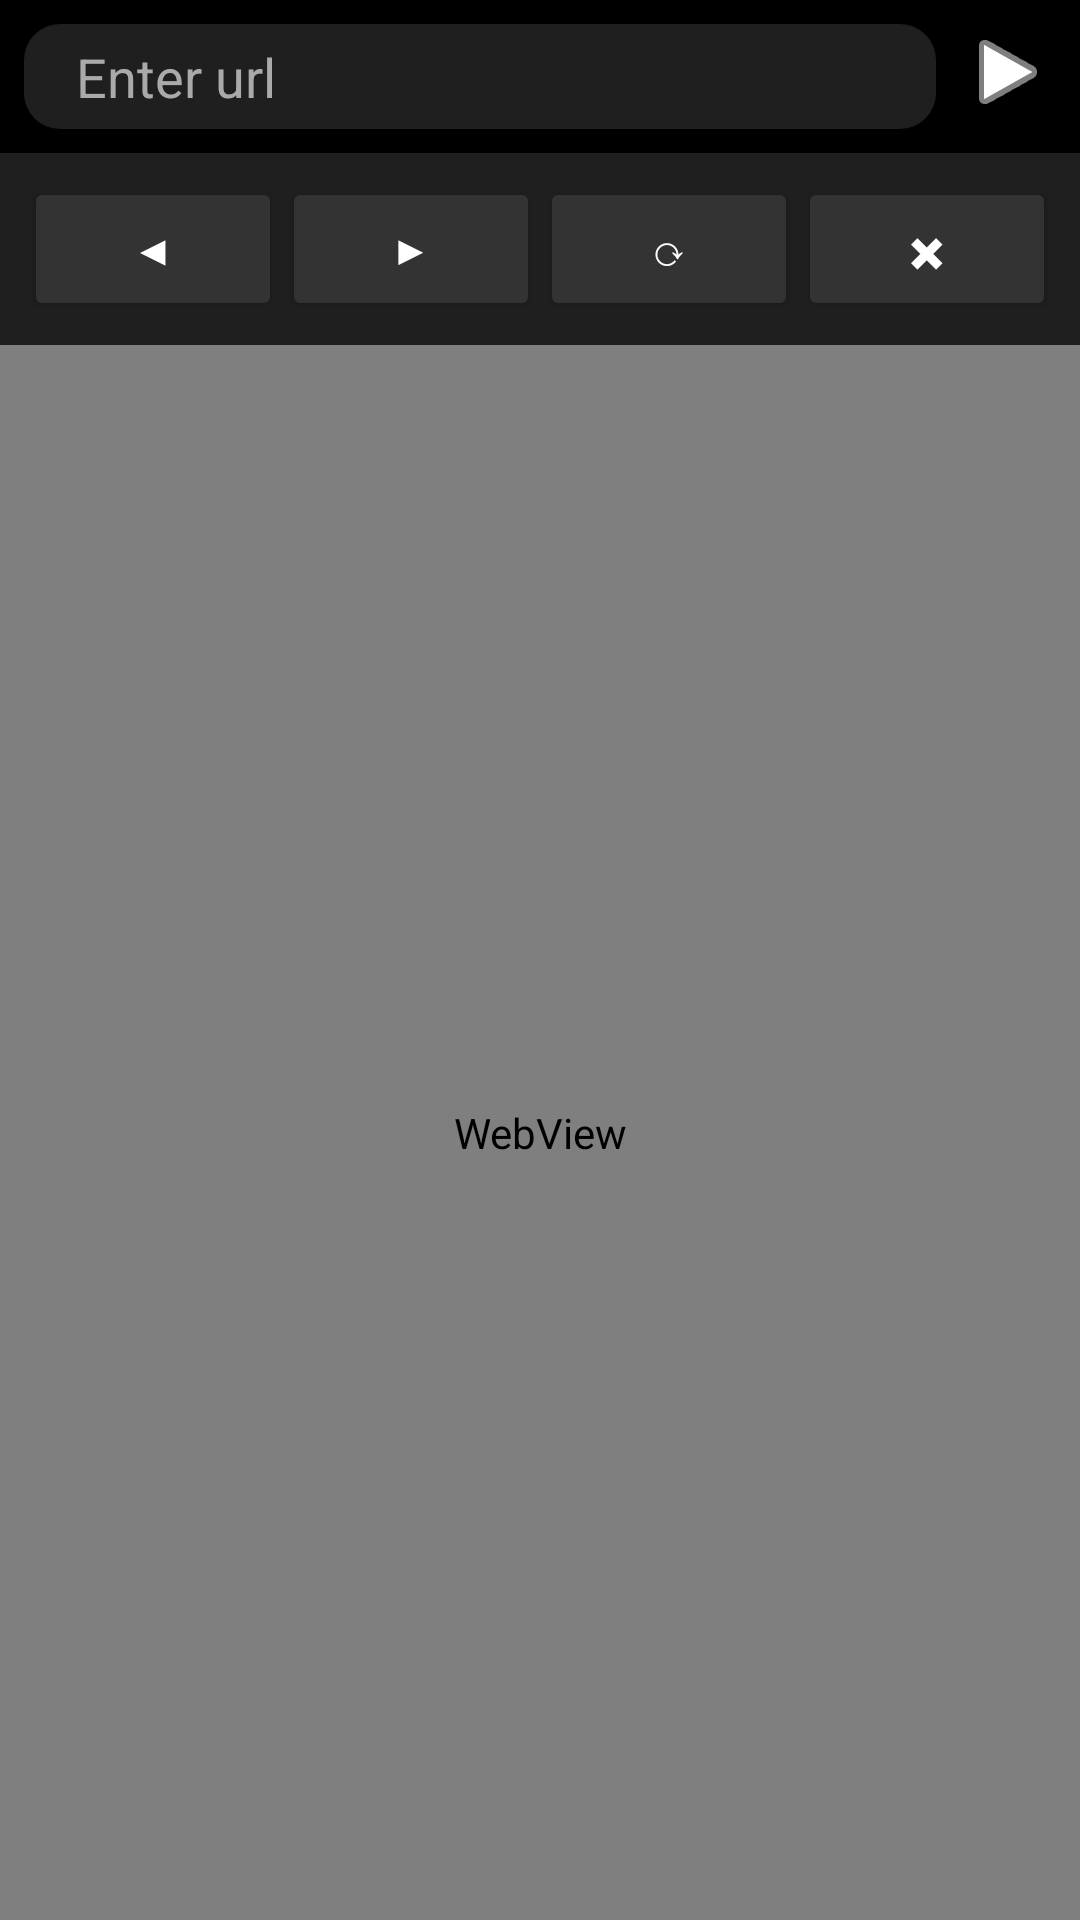

Where icons sit on this 1080w x 1920h app screen, as (x1, y1, x2, y2):
Go: (979, 40, 1037, 104)
